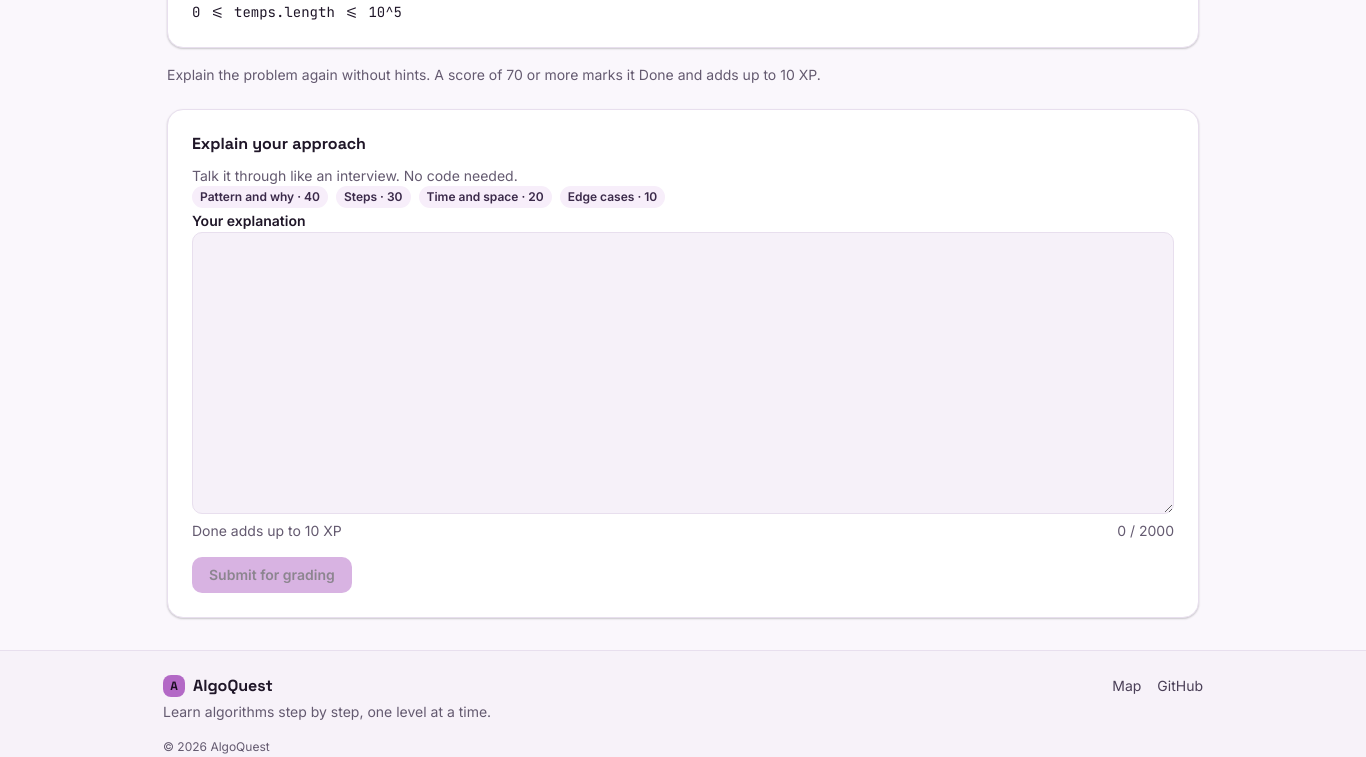
it: practice round › sends a practice attempt without hints and shows Done
The width and height of the screenshot is (1366, 757).
(page scrolled)
Expected: the text "Done adds up to 10 XP" is shown, [192,520,342,541]
Type "Keep the largest value while reading the array once." into the text box labelled "Your explanation" at (683, 373), box [192,232,1174,514]
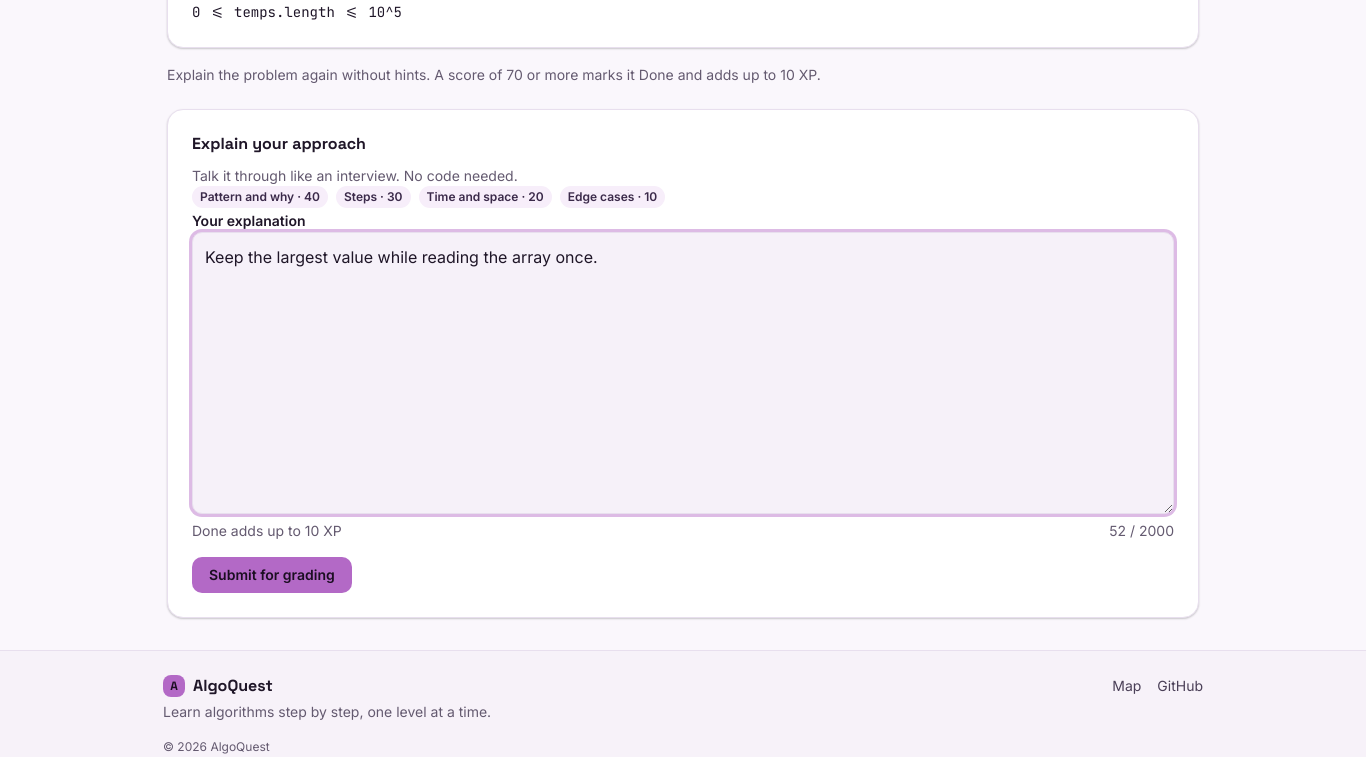
Click the button "Submit for grading" at (272, 575), box [192,557,352,593]
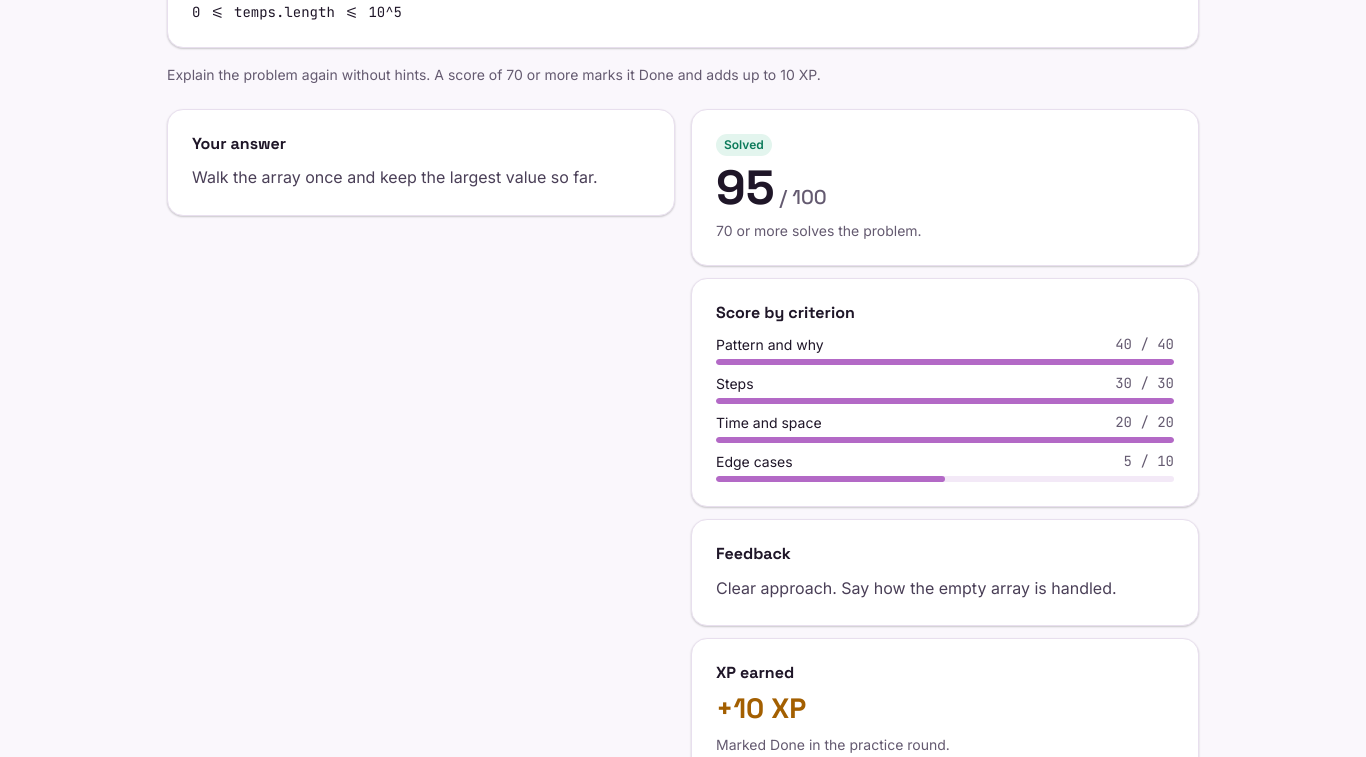
Now the text "Marked Done in the practice round." is shown, box [716,736,950,753]
Now the text "+10 XP" is shown, box [716,690,806,726]
